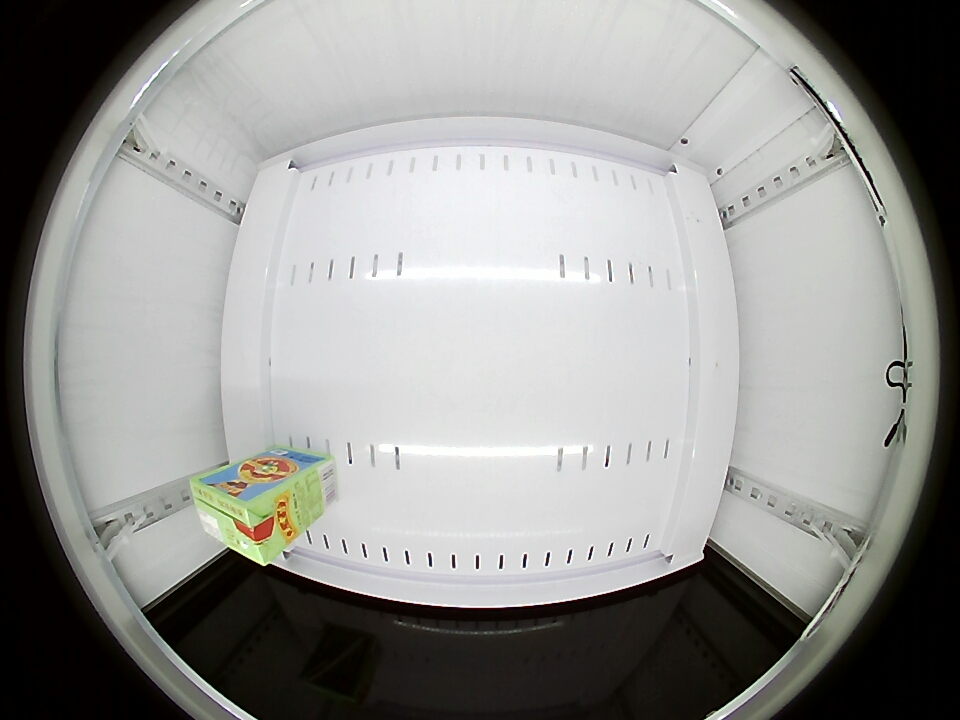wanglaoji: (190, 470, 291, 566)
